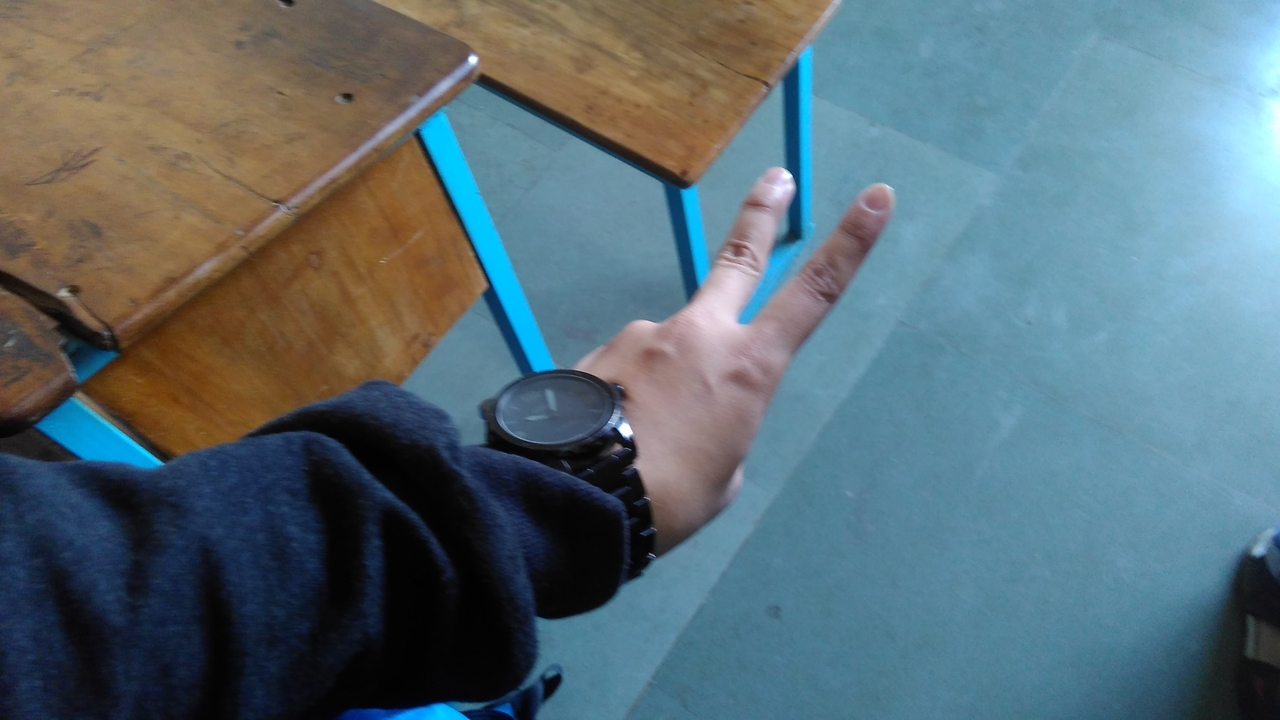fingertip: (744, 154, 804, 212), (846, 168, 910, 222)
